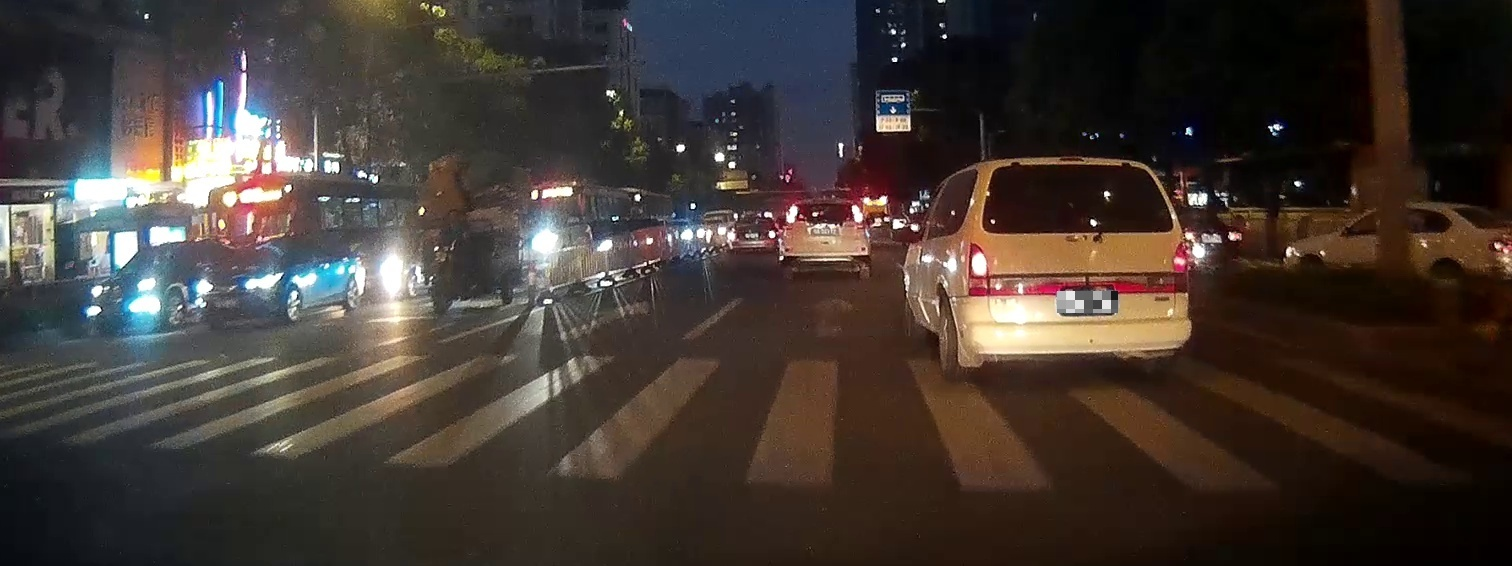L_light: (967, 242, 989, 297), (784, 204, 798, 230)
R_light: (1171, 241, 1189, 293), (851, 204, 865, 229)
T_light: (1059, 157, 1084, 162), (816, 203, 832, 206)
night-no: (960, 156, 1191, 382), (778, 198, 871, 279)
plate_1: (1057, 291, 1118, 313)
